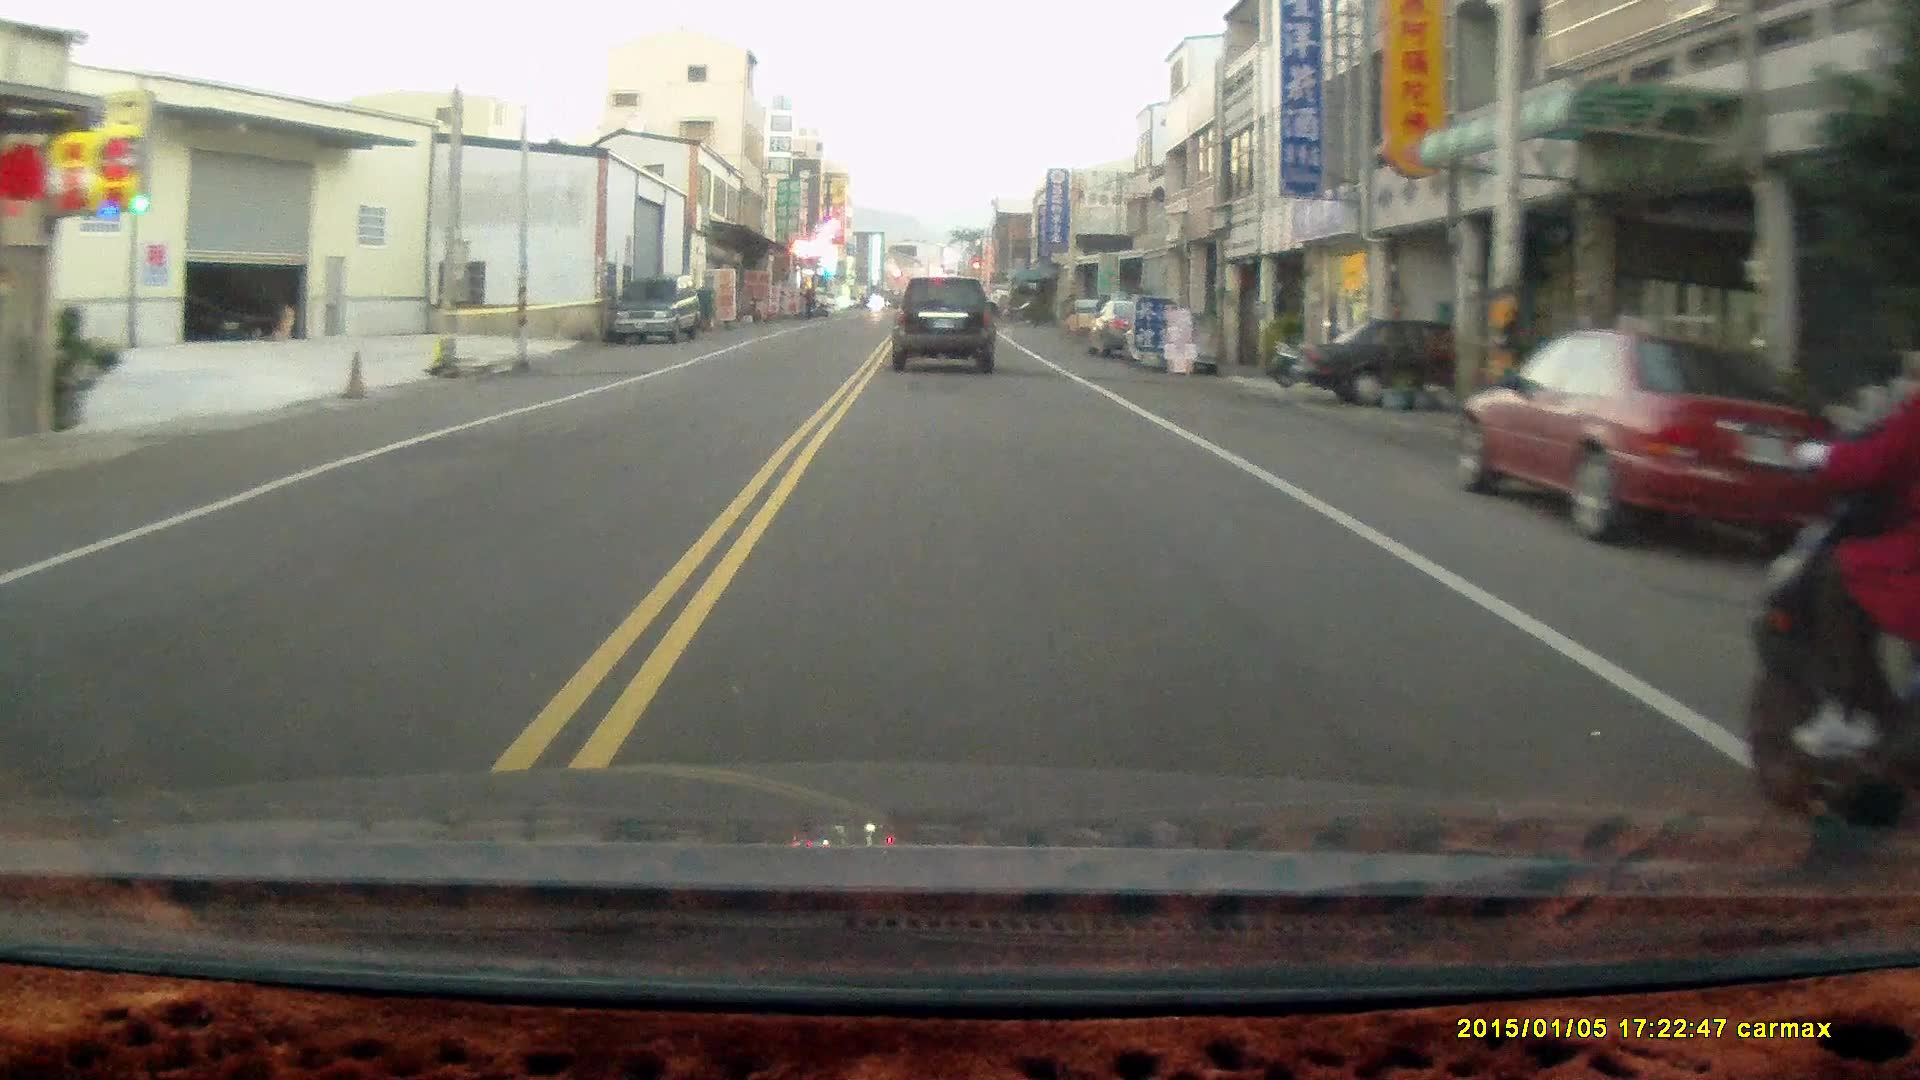rider: (1747, 325, 1913, 841)
vehicle: (1455, 327, 1862, 556), (1274, 310, 1544, 396), (890, 275, 1001, 377), (606, 276, 706, 350)
